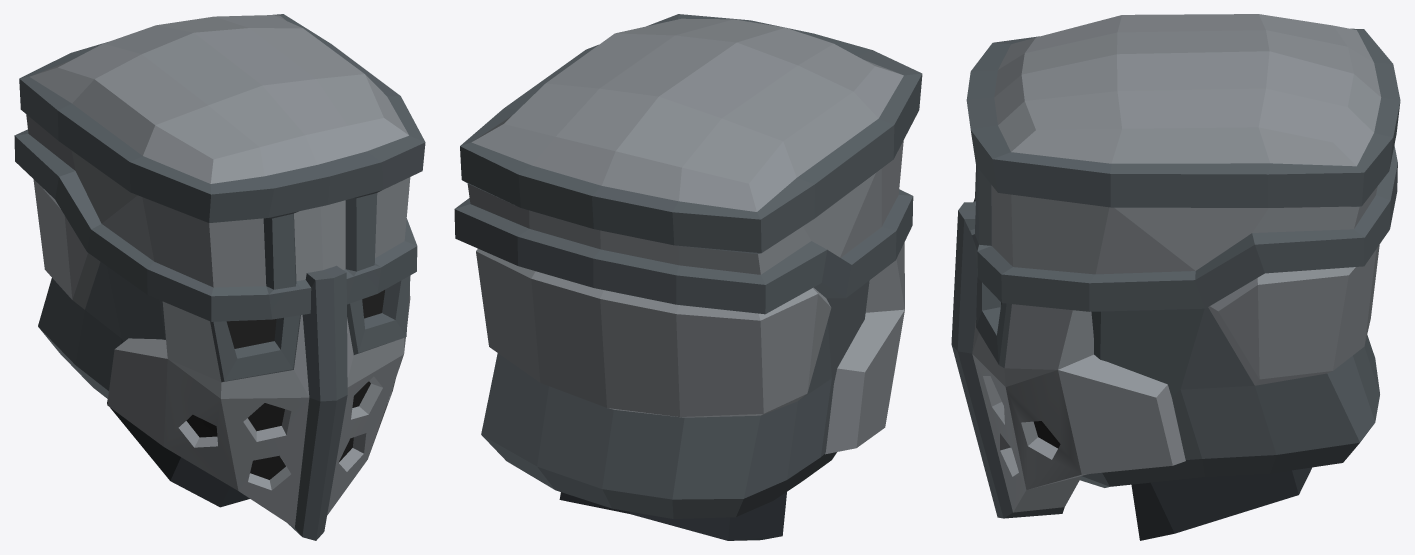
File: Chr_Head_No_Elements_Male_07_Static.fbx
The picture shows the model from 3 angles, left to right: view 1: azimuth 30°, elevation 25°; view 2: azimuth 150°, elevation 25°; view 3: azimuth 270°, elevation 25°; orthographic projection. The views are drawn at different scales.
Visible parts, largest first — view 1: Chr_Head_No_Elements_Male_07_Static; view 2: Chr_Head_No_Elements_Male_07_Static; view 3: Chr_Head_No_Elements_Male_07_Static.
Part boxes in pixels (x1,y1,x2,y2): Chr_Head_No_Elements_Male_07_Static: [14, 14, 425, 540]; Chr_Head_No_Elements_Male_07_Static: [454, 14, 922, 540]; Chr_Head_No_Elements_Male_07_Static: [951, 14, 1400, 540].
Size of the model in its own units: 0.2659 by 0.3824 by 0.3284.
